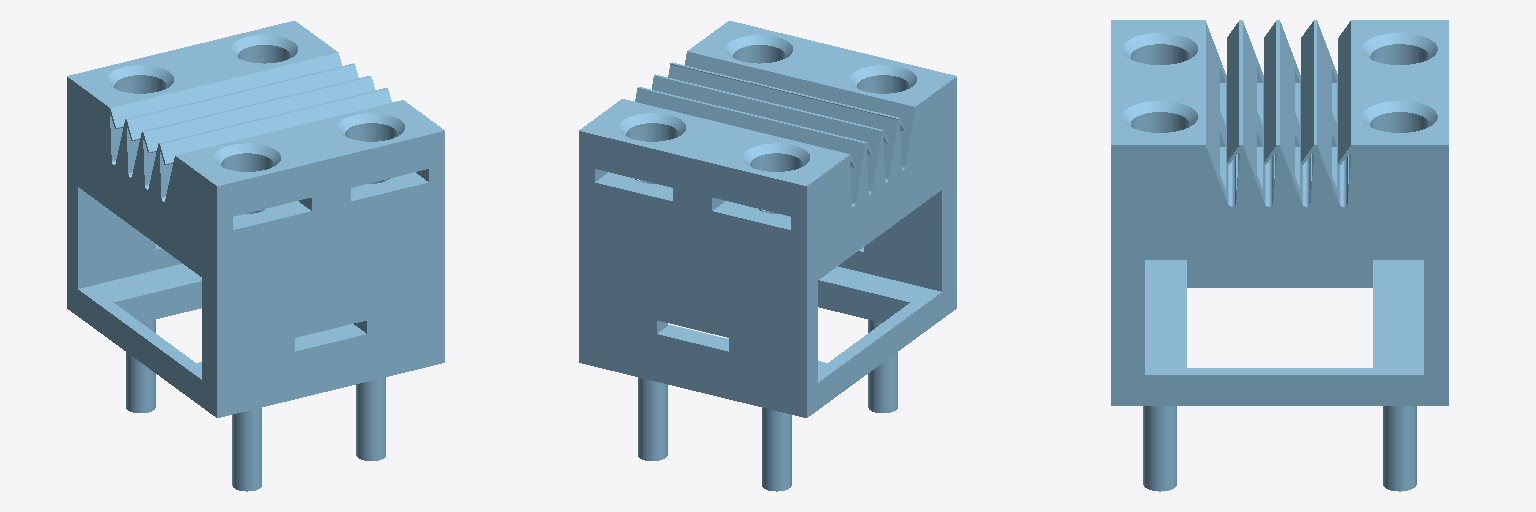
URDF robot description (ghast_0):
<!--URDF generated by ONSHAPE BY PTC INC, 1.218-->
<robot name="ghast_0">
    <link name="part_1">
        <inertial>
            <mass value="1.78723e-08" />
            <origin xyz="7.73525e-11 -1.64992e-09 0.000257471" rpy="0 -0 0" />
            <inertia ixx="1.17526e-13" ixy="0" ixz="0" iyy="1.17526e-13" iyz="0" izz="2.33248e-13" />
        </inertial>
        <visual>
            <origin xyz="0 -1.65327e-19 0" rpy="0 -0 0" />
            <geometry>
                <mesh filename="package://ghast_0/meshes/Part_1.stl" scale="1 1 1" />
            </geometry>
            <material name="0.615686_0.811765_0.929412_0.000000_0.000000">
                <color rgba="0.615686 0.811765 0.929412 1" />
            </material>
        </visual>
    </link>
    <link name="part_1_1">
        <inertial>
            <mass value="1.78723e-08" />
            <origin xyz="7.73525e-11 -1.64992e-09 0.000257471" rpy="0 -0 0" />
            <inertia ixx="1.17526e-13" ixy="0" ixz="0" iyy="1.17526e-13" iyz="0" izz="2.33248e-13" />
        </inertial>
        <visual>
            <origin xyz="0 -1.65327e-19 0" rpy="0 -0 0" />
            <geometry>
                <mesh filename="package://ghast_0/meshes/Part_1.stl" scale="1 1 1" />
            </geometry>
            <material name="0.615686_0.811765_0.929412_0.000000_0.000000">
                <color rgba="0.615686 0.811765 0.929412 1" />
            </material>
        </visual>
    </link>
    <link name="part_1_2">
        <inertial>
            <mass value="1.80903e-05" />
            <origin xyz="0.0175 -0.000478637 0.00156365" rpy="0 -0 0" />
            <inertia ixx="6.35809e-09" ixy="0" ixz="0" iyy="4.46878e-09" iyz="-5.43324e-11" izz="5.95435e-09" />
        </inertial>
        <visual>
            <origin xyz="0 0 0" rpy="0 -0 0" />
            <geometry>
                <mesh filename="package://ghast_0/meshes/Part_1_1.stl" scale="1 1 1" />
            </geometry>
            <material name="0.615686_0.811765_0.929412_0.000000_0.000000">
                <color rgba="0.615686 0.811765 0.929412 1" />
            </material>
        </visual>
    </link>
    <link name="part_1_3">
        <inertial>
            <mass value="1.78723e-08" />
            <origin xyz="7.73525e-11 -1.64992e-09 0.000257471" rpy="0 -0 0" />
            <inertia ixx="1.17526e-13" ixy="0" ixz="0" iyy="1.17526e-13" iyz="0" izz="2.33248e-13" />
        </inertial>
        <visual>
            <origin xyz="0 -1.65327e-19 0" rpy="0 -0 0" />
            <geometry>
                <mesh filename="package://ghast_0/meshes/Part_1.stl" scale="1 1 1" />
            </geometry>
            <material name="0.615686_0.811765_0.929412_0.000000_0.000000">
                <color rgba="0.615686 0.811765 0.929412 1" />
            </material>
        </visual>
    </link>
    <link name="part_1_4">
        <inertial>
            <mass value="1.78723e-08" />
            <origin xyz="7.73525e-11 -1.64992e-09 0.000257471" rpy="0 -0 0" />
            <inertia ixx="1.17526e-13" ixy="0" ixz="0" iyy="1.17526e-13" iyz="0" izz="2.33248e-13" />
        </inertial>
        <visual>
            <origin xyz="0 -1.65327e-19 0" rpy="0 -0 0" />
            <geometry>
                <mesh filename="package://ghast_0/meshes/Part_1.stl" scale="1 1 1" />
            </geometry>
            <material name="0.615686_0.811765_0.929412_0.000000_0.000000">
                <color rgba="0.615686 0.811765 0.929412 1" />
            </material>
        </visual>
    </link>
    <link name="root" />
    <joint name="fastened_1" type="fixed">
        <origin xyz="0.008 0.0141926 0.01" rpy="3.14159 2.89121e-16 -1.88581e-31" />
        <axis xyz="0 0 -1" />
        <parent link="part_1_2" />
        <child link="part_1_1" />
    </joint>
    <joint name="fastened_1_1" type="fixed">
        <origin xyz="0.027 0.0141926 0.01" rpy="3.14159 2.89121e-16 -1.88581e-31" />
        <axis xyz="0 0 -1" />
        <parent link="part_1_2" />
        <child link="part_1_3" />
    </joint>
    <joint name="fastened_1_2" type="fixed">
        <origin xyz="0.008 -0.0141926 0.01" rpy="3.14159 2.89121e-16 -1.88581e-31" />
        <axis xyz="0 0 -1" />
        <parent link="part_1_2" />
        <child link="part_1" />
    </joint>
    <joint name="fastened_1_3" type="fixed">
        <origin xyz="0.027 -0.0141926 0.01" rpy="3.14159 2.89121e-16 -1.88581e-31" />
        <axis xyz="0 0 -1" />
        <parent link="part_1_2" />
        <child link="part_1_4" />
    </joint>
    <joint name="fixed_node_to_root_joint" type="fixed">
        <origin xyz="0.0157343 -0.00120657 0.025155" rpy="0 -0 0" />
        <axis xyz="0 0 1" />
        <parent link="root" />
        <child link="part_1_2" />
    </joint>
</robot>

--- Facts derived from the render (not from the file) ---
The picture shows the robot from 3 angles, left to right: view 1: azimuth 30°, elevation 25°; view 2: azimuth 150°, elevation 25°; view 3: azimuth 270°, elevation 25°; orthographic projection.
Robot: ghast_0 — 6 links, 5 joints (5 fixed); root link root; default pose: all joints at 0.
Links seen in each view (by area): view 1: part_1_2; view 2: part_1_2; view 3: part_1_2.
Boxes of the visible links, x1=… form: part_1_2: x1=67, y1=21, x2=444, y2=491; part_1_2: x1=579, y1=21, x2=956, y2=491; part_1_2: x1=1111, y1=20, x2=1448, y2=491.
Bounding box of the posed robot: 0.035 × 0.04 × 0.048 m (x, y, z).
5 mesh visuals loaded from 2 distinct referenced files (2 binary STL).
